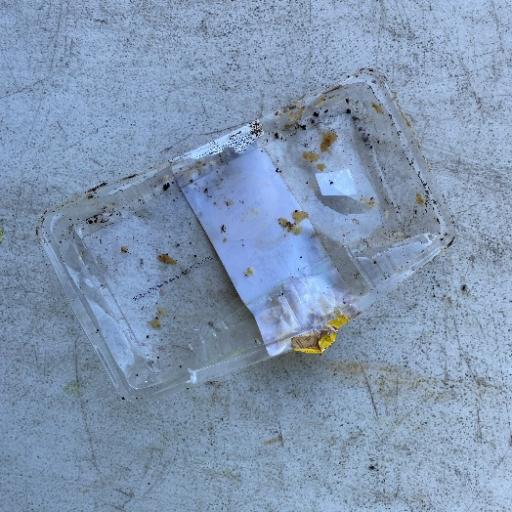Plastic: (36, 66, 458, 402)
